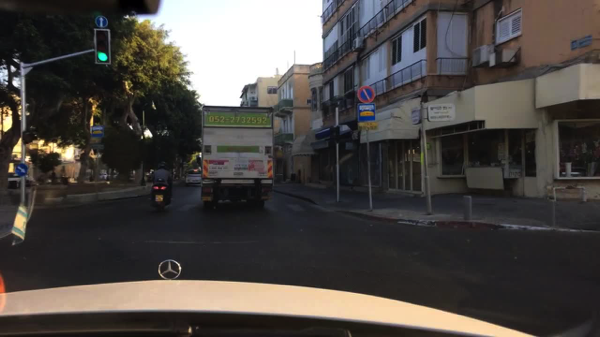car: (8, 172, 34, 186), (185, 169, 203, 186), (44, 175, 67, 184), (98, 173, 109, 180)
motor: (151, 178, 171, 211)
rider: (149, 162, 175, 204)
traffic light: (94, 28, 111, 65), (23, 131, 39, 144), (330, 126, 340, 144), (345, 92, 356, 108)
traffic sign: (356, 86, 376, 103), (358, 103, 375, 122), (14, 163, 30, 175), (95, 16, 109, 28), (358, 123, 378, 131), (91, 126, 104, 138), (89, 139, 102, 144)
truck: (200, 105, 274, 209)
